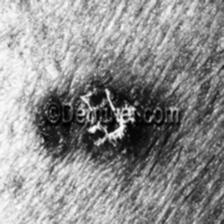Non-Cancerous Skin Condition: (31, 127, 188, 174), (40, 50, 168, 104)
